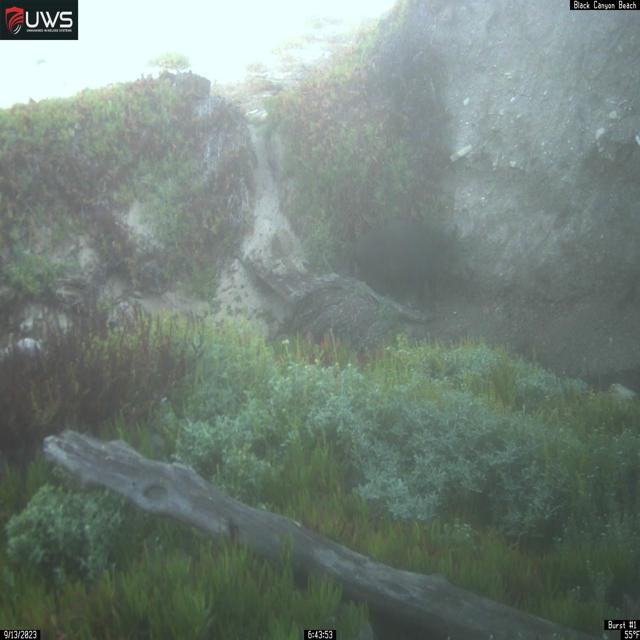pig: (349, 220, 471, 310)
